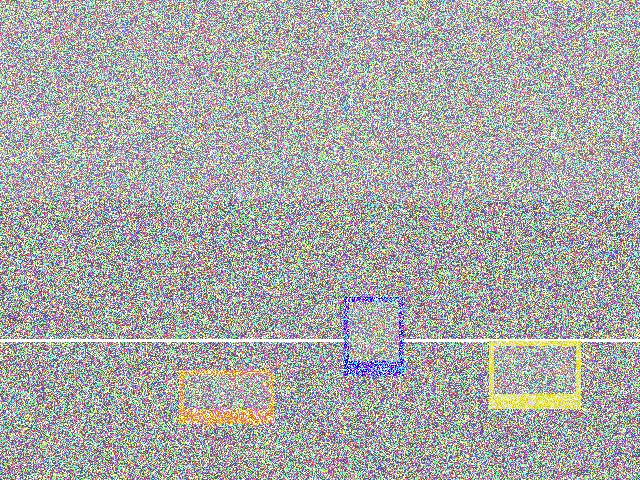bus: (306, 292, 439, 378)
